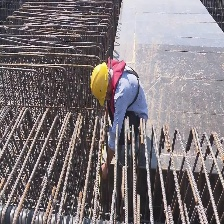helmet: (92, 60, 110, 108)
